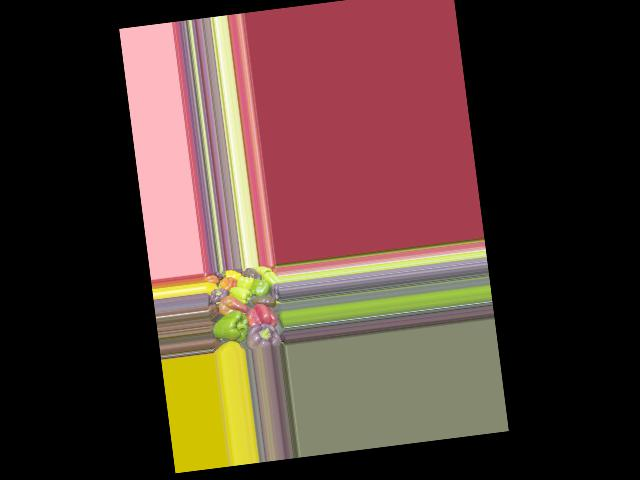bell_pepper: (207, 284, 229, 304)
